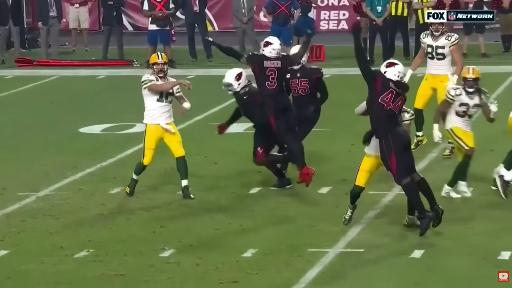Helmet: (223, 68, 248, 93), (380, 60, 404, 80), (462, 66, 480, 92), (149, 52, 168, 76), (261, 36, 281, 57), (292, 52, 308, 69), (430, 23, 446, 36)
Jersey: (246, 53, 295, 107), (367, 72, 406, 137), (142, 74, 182, 123), (445, 86, 487, 131), (421, 31, 459, 74), (286, 66, 323, 109), (234, 82, 269, 125), (365, 137, 379, 155)
Player: (352, 22, 443, 236), (209, 37, 314, 186), (126, 53, 194, 199), (218, 68, 291, 188), (433, 67, 497, 197), (405, 23, 463, 150), (286, 52, 328, 141), (286, 52, 328, 140), (343, 136, 382, 225), (293, 0, 317, 45), (492, 150, 511, 198)
